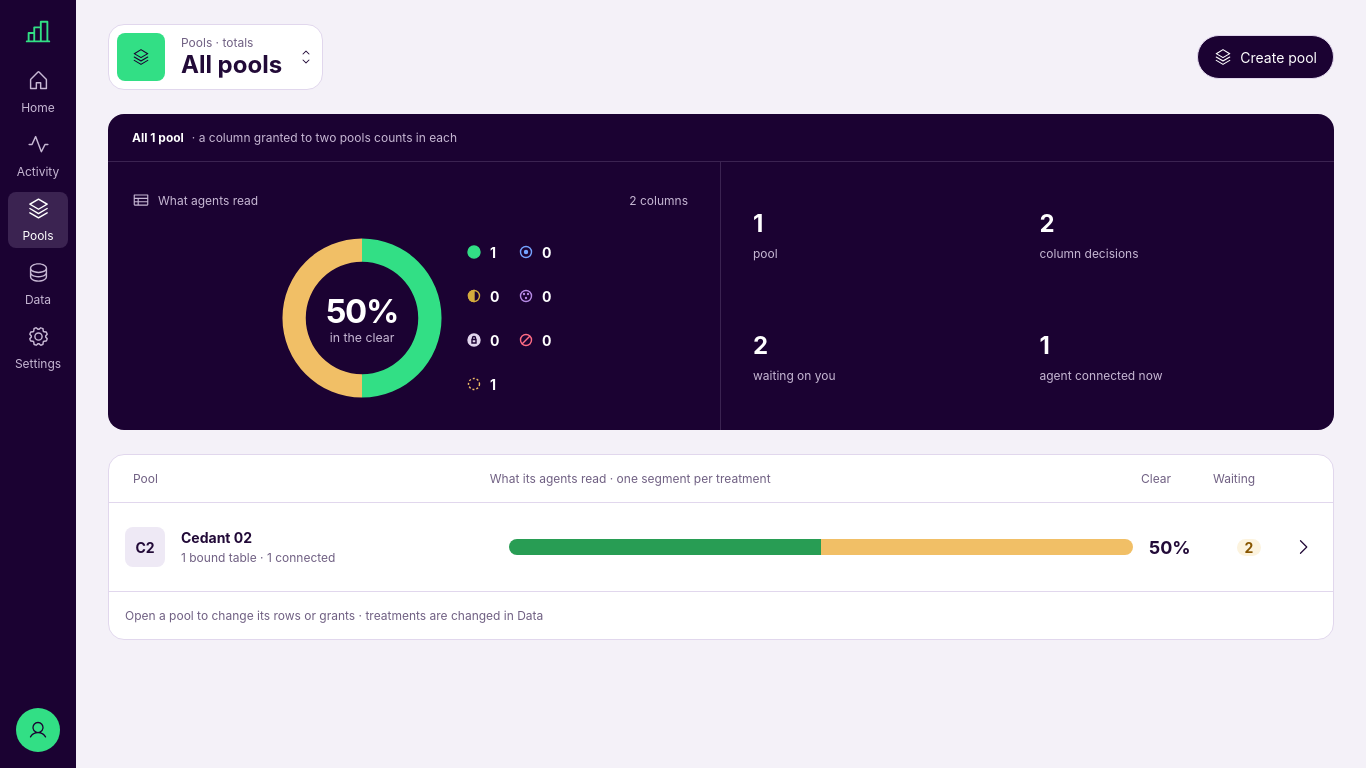
Test case: All pools aggregates columns once per pool, opens pools and filters connected agents
This screenshot has width=1366, height=768.
Expected: the text "All 1 pool" is shown, [132,130,184,145]
Click the button "C2 Cedant 02 1 bound table · 1 connected 50% 2" at (721, 547), box [109,503,1333,591]
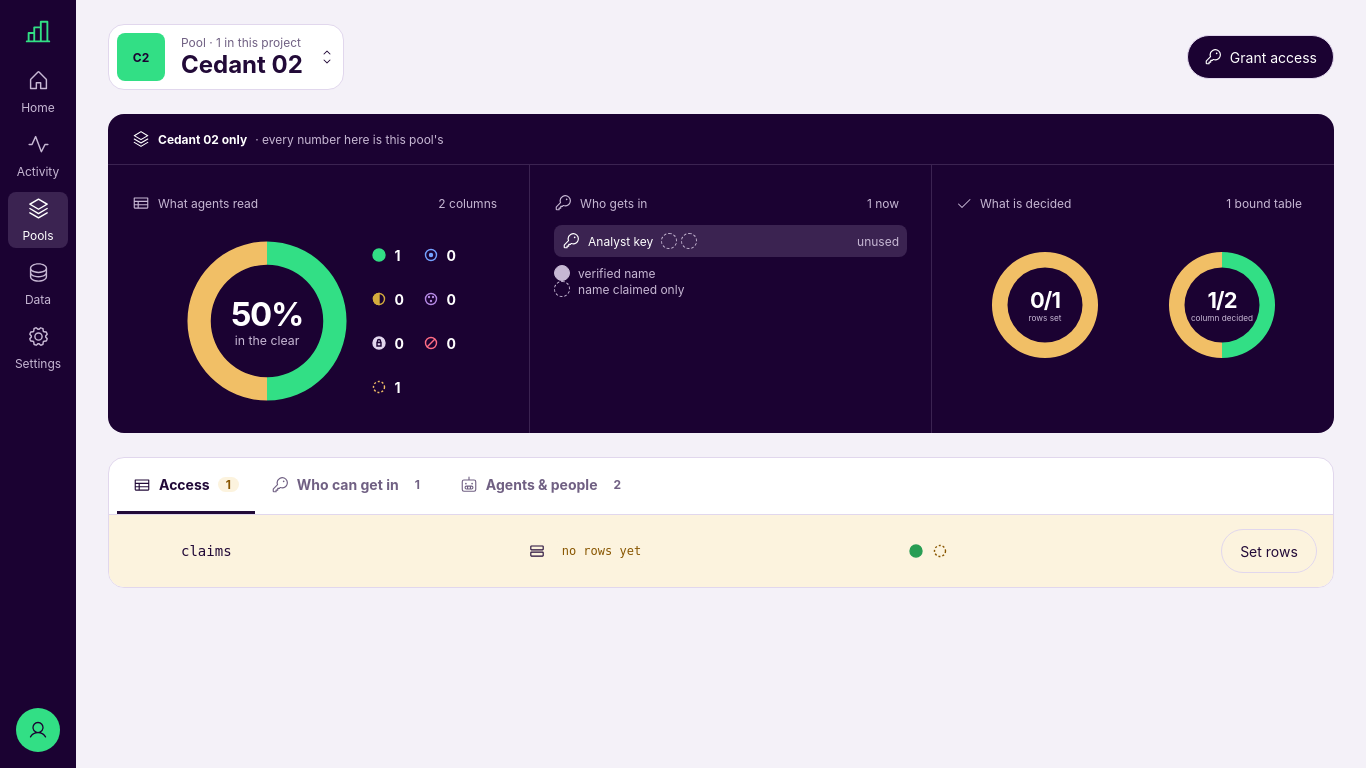
Result: the tab "Access 1" is shown at [117,458,255,514]
Press the mouse on the tab "Agents & people 2" at (544, 486), box [444,458,645,514]
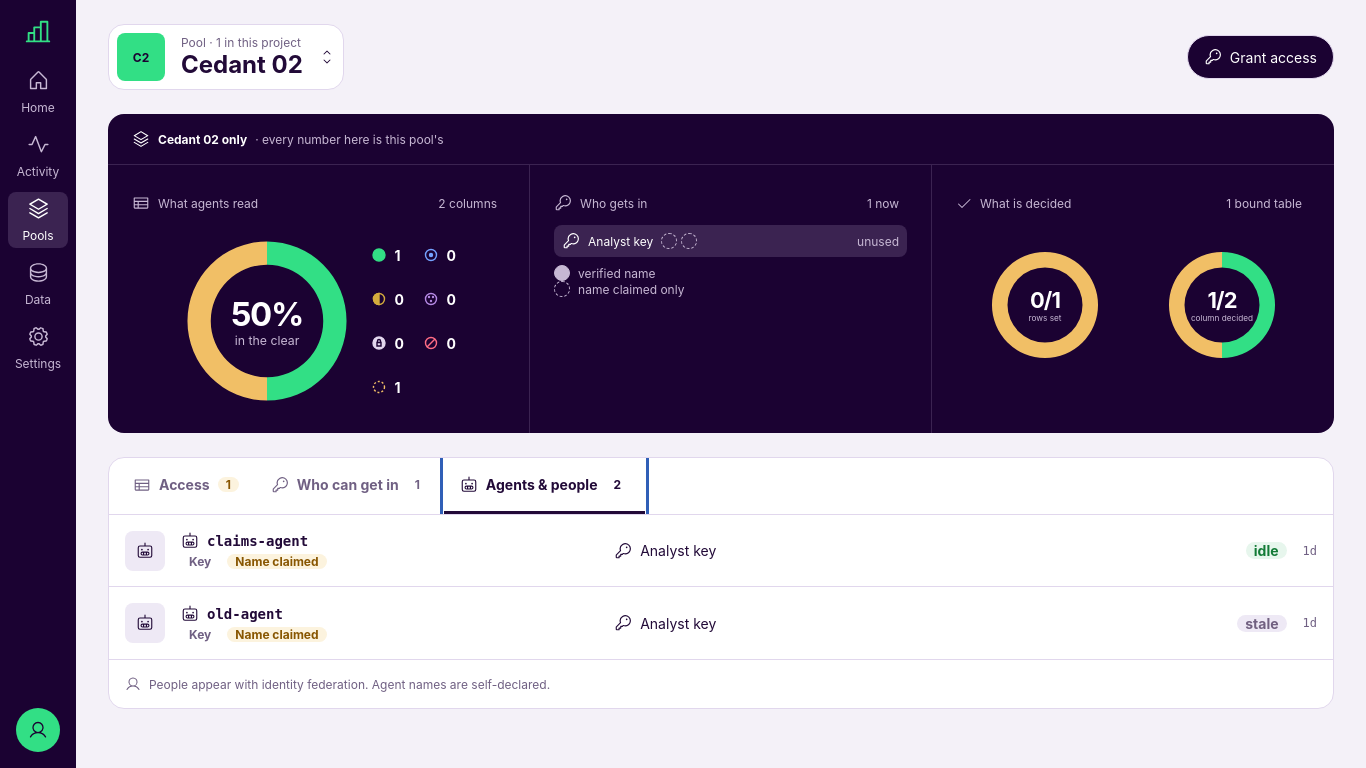
Result: the text "claims-agent" is shown at [181,532,308,550]
Result: the text "People appear with identity federation" is shown at [149,676,550,692]
Click the button "1 now" at (883, 203), box [859,181,907,225]
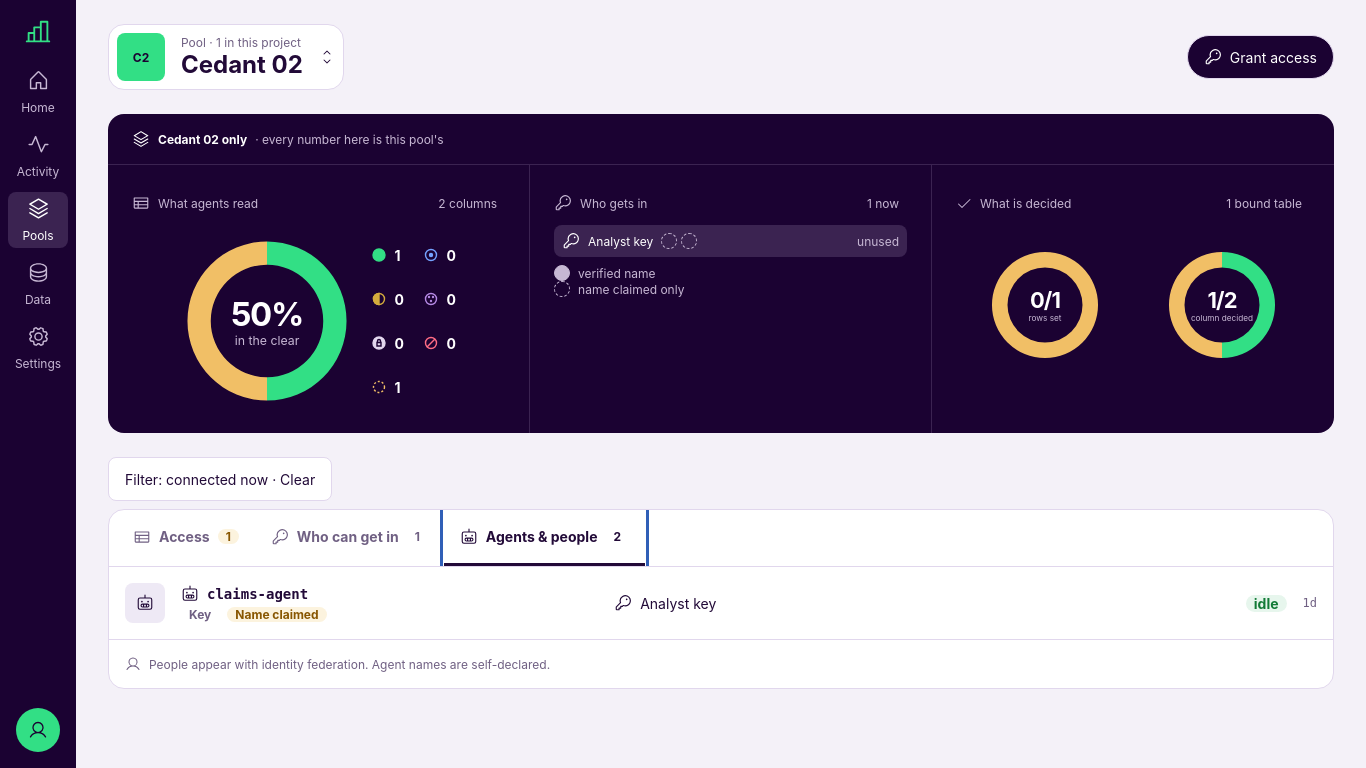
Result: the text "claims-agent" is shown at [181,584,308,602]
Result: the text "old-agent" is gone
